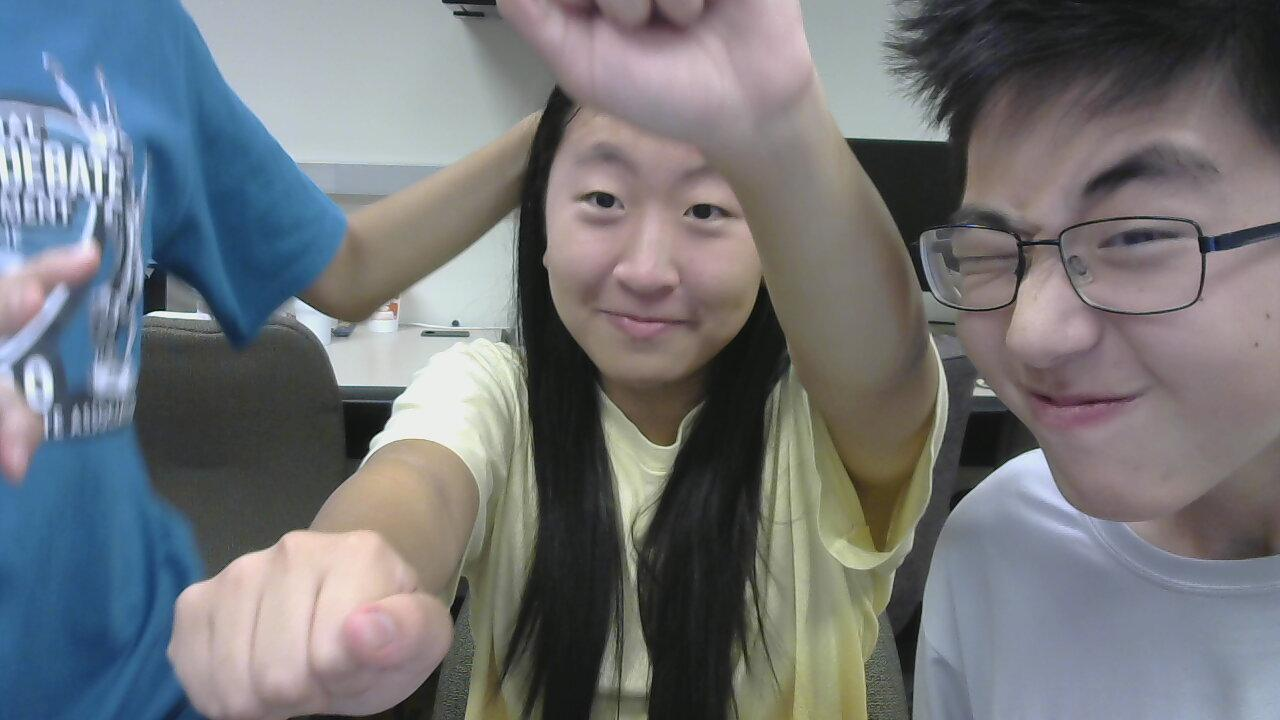fist: (169, 527, 495, 720)
hands: (472, 0, 824, 138)
